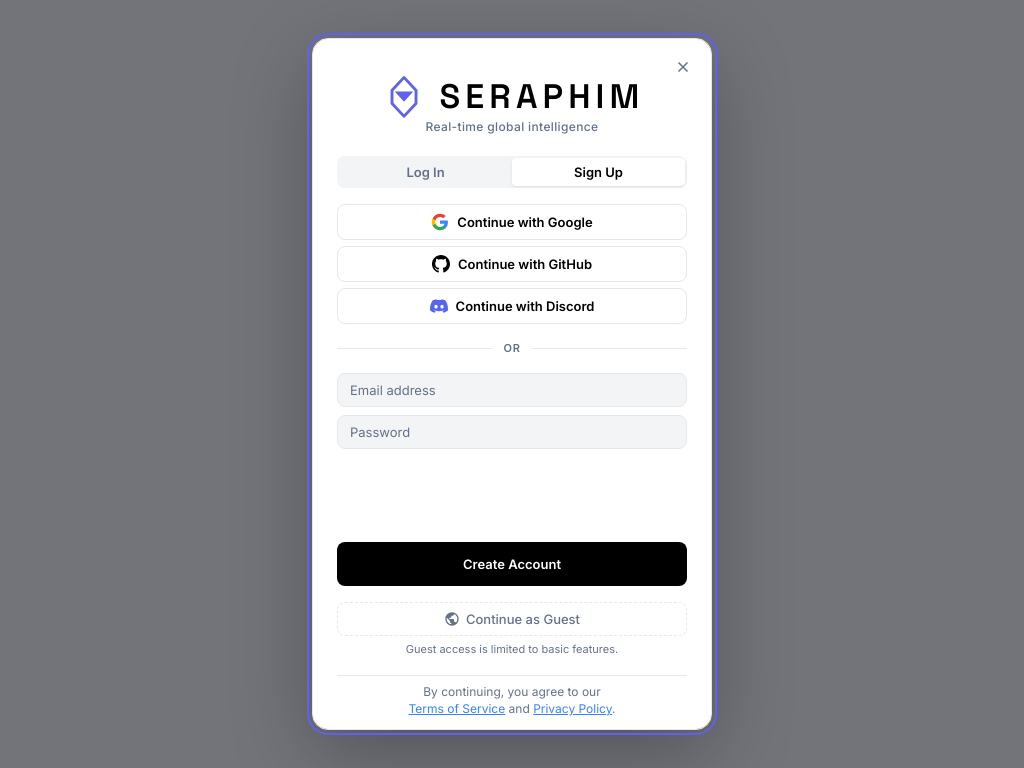
AuthModal backdrop dismissal › preserves pricing selection in the email confirmation link
In the field with placeholder "Email address": (512, 390) 337,373 -> 687,407, type "reader@example.com"
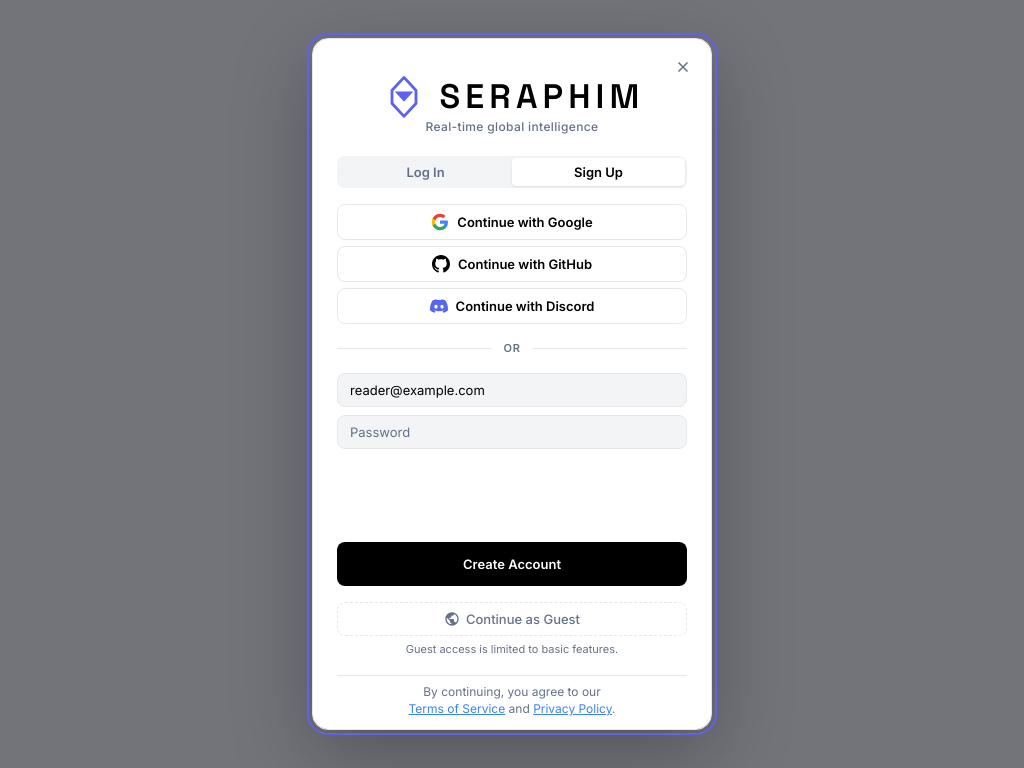
In the password field with placeholder "Password": (512, 432) 337,415 -> 687,449, type "test-password"
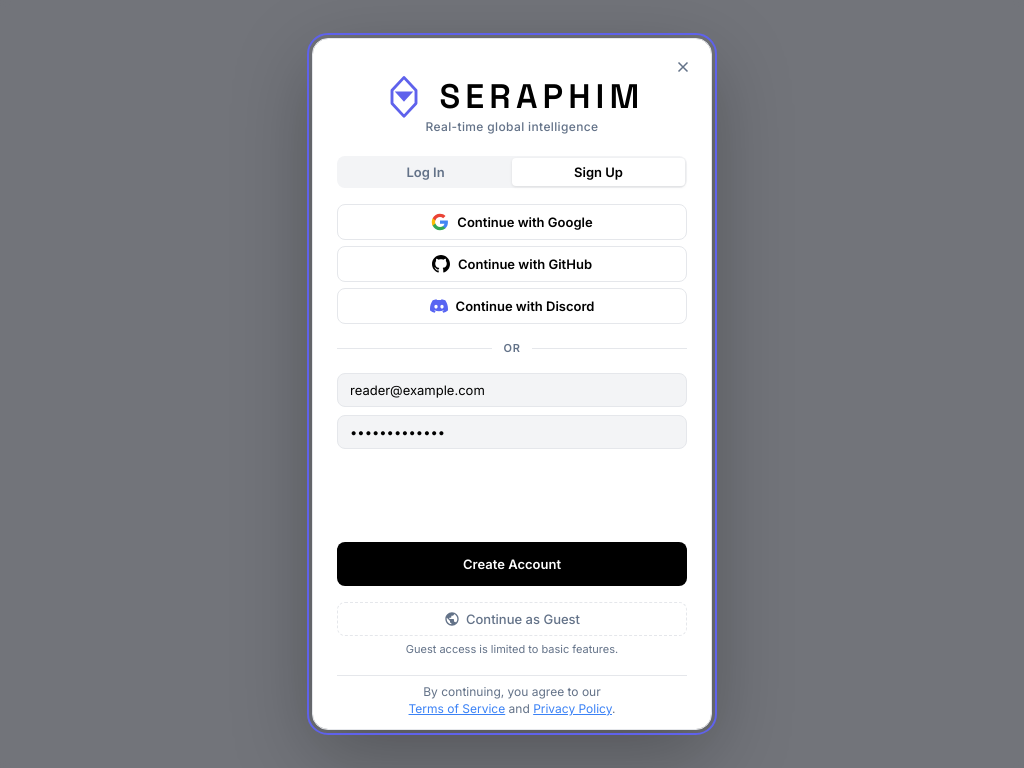
Click the button "Create Account": (512, 564) 337,542 -> 687,586
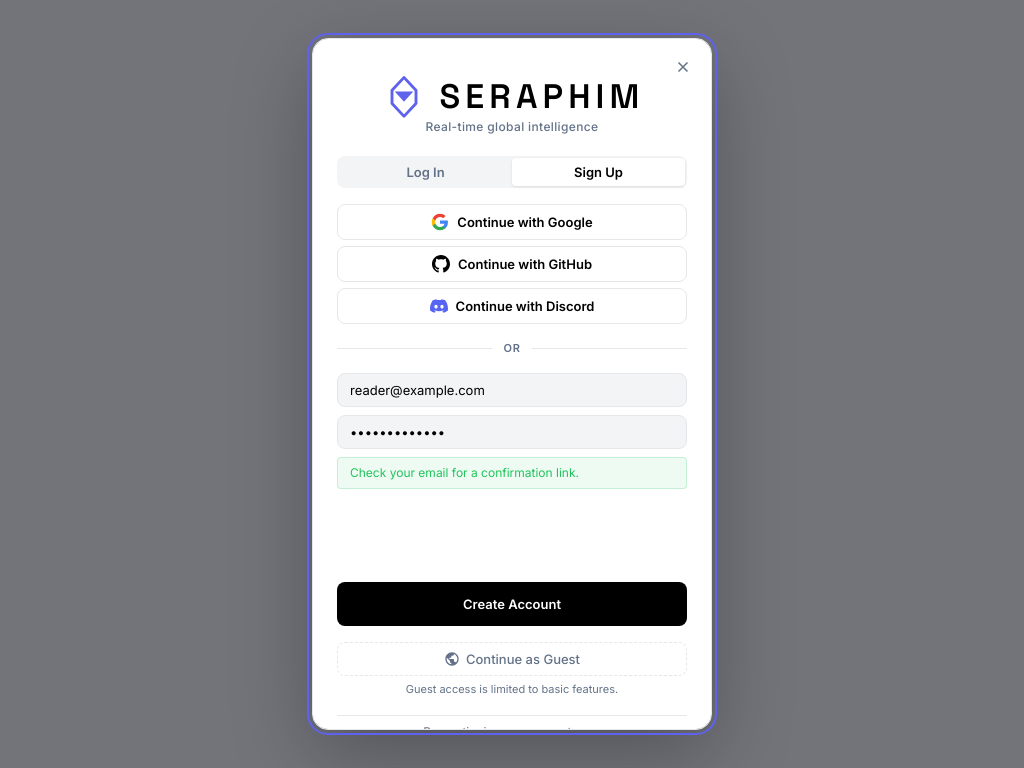
Expected: the text "Check your email for a confirmation link." is shown, 337,457 -> 687,489
